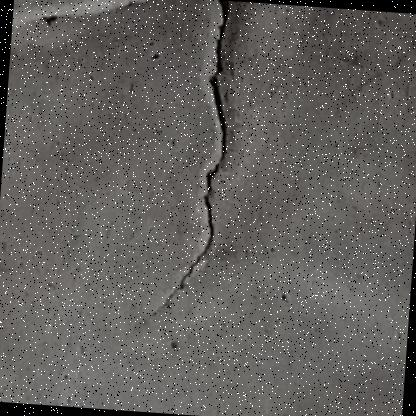Crack: (0, 0, 314, 409)
